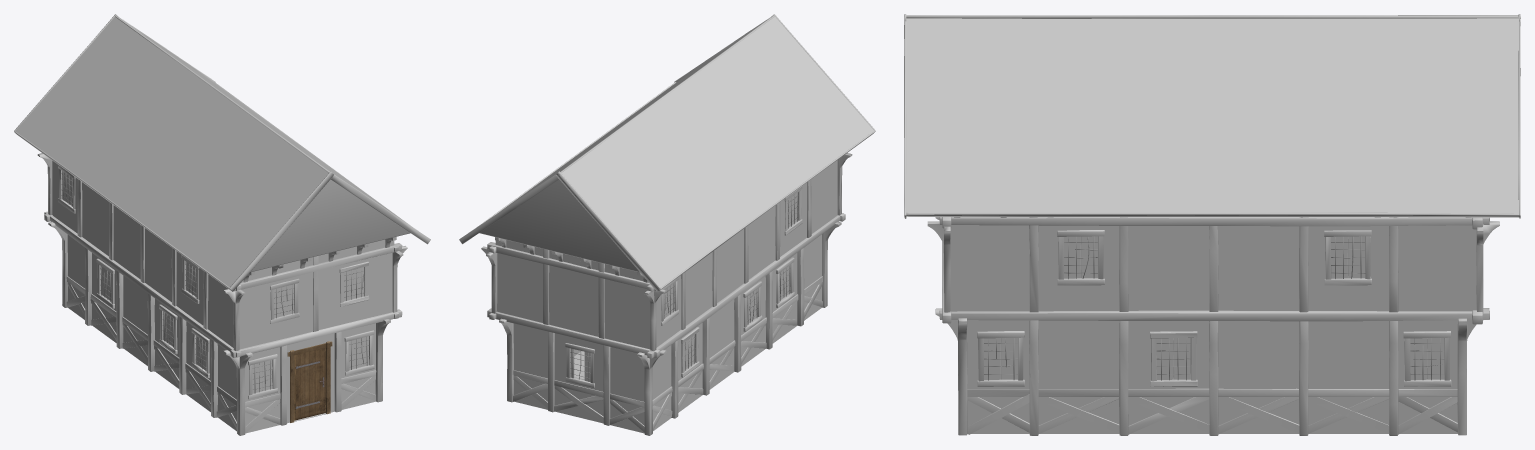
The model's file is SM_House_01_LOD_01.FBX.
The picture shows the model from 3 angles, left to right: view 1: azimuth 30°, elevation 25°; view 2: azimuth 150°, elevation 25°; view 3: azimuth 270°, elevation 25°; orthographic projection. The views are drawn at different scales.
Visible parts, largest first — view 1: SM_House_01_Roof, SM_House_01_Beams, SM_House_01_Wall, SM_House_01_Boards, SM_Door_01, SM_House_01_SteelCage, SM_Door_01_Frame; view 2: SM_House_01_Roof, SM_House_01_Wall, SM_House_01_Beams, SM_House_01_Boards, SM_House_01_SteelCage; view 3: SM_House_01_Roof, SM_House_01_Wall, SM_House_01_Beams, SM_House_01_SteelCage, SM_Window_02_Shutter_Left009, SM_Window_02_Shutter_Right009, SM_Window_02_Shutter_Right008, SM_Window_02_Shutter_Left008, SM_Window_02_Shutter_Right011, SM_Window_02_Shutter_Right010, SM_Window_02_Shutter_Left011, SM_Window_02_Shutter_Right007 (+2 smaller).
Boxes of the visible parts, <box> form: SM_House_01_Roof: <box>15,17,389,287</box>; SM_House_01_Beams: <box>14,14,430,435</box>; SM_House_01_Wall: <box>52,160,394,433</box>; SM_House_01_Boards: <box>250,179,410,272</box>; SM_Door_01: <box>295,348,325,420</box>; SM_House_01_SteelCage: <box>61,171,369,393</box>; SM_Door_01_Frame: <box>287,341,332,422</box>; SM_House_01_Roof: <box>501,17,873,287</box>; SM_House_01_Wall: <box>495,160,837,433</box>; SM_House_01_Beams: <box>459,14,875,435</box>; SM_House_01_Boards: <box>479,179,639,379</box>; SM_House_01_SteelCage: <box>570,193,798,381</box>; SM_House_01_Roof: <box>906,18,1518,214</box>; SM_House_01_Wall: <box>950,225,1476,433</box>; SM_House_01_Beams: <box>904,14,1520,435</box>; SM_House_01_SteelCage: <box>984,236,1444,380</box>; SM_Window_02_Shutter_Left009: <box>1410,338,1427,379</box>; SM_Window_02_Shutter_Right009: <box>1427,338,1444,379</box>; SM_Window_02_Shutter_Right008: <box>1173,338,1190,379</box>; SM_Window_02_Shutter_Left008: <box>1156,338,1173,379</box>; SM_Window_02_Shutter_Right011: <box>1081,236,1098,278</box>; SM_Window_02_Shutter_Right010: <box>1348,236,1365,278</box>; SM_Window_02_Shutter_Left011: <box>1064,236,1080,278</box>; SM_Window_02_Shutter_Right007: <box>1001,338,1017,379</box>.
Bounding box in the file's own units: 7.32 × 9.07 × 13.58.
